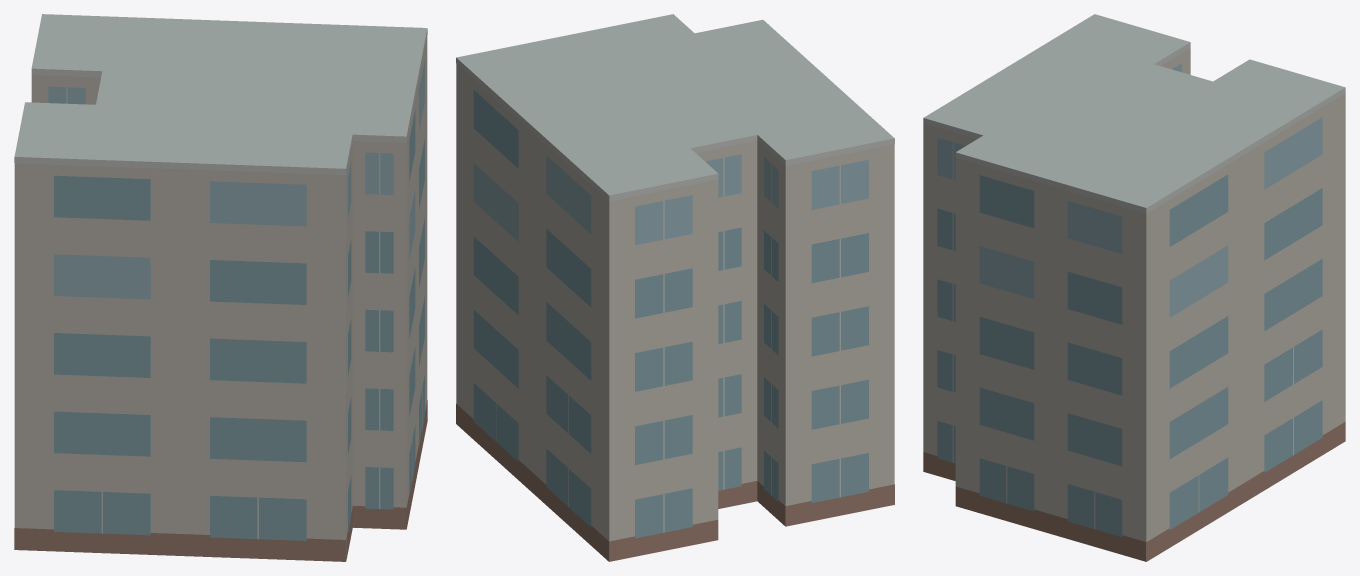
The model's file is survey-upis-32980012.glb.
The picture shows the model from 3 angles, left to right: view 1: azimuth 30°, elevation 25°; view 2: azimuth 150°, elevation 25°; view 3: azimuth 270°, elevation 25°; orthographic projection. The views are drawn at different scales.
Visible parts, largest first — view 1: survey-upis-32980012.tmp; view 2: survey-upis-32980012.tmp; view 3: survey-upis-32980012.tmp.
Boxes of the visible parts, x1=… form: survey-upis-32980012.tmp: x1=14, y1=14, x2=427, y2=561; survey-upis-32980012.tmp: x1=456, y1=14, x2=894, y2=561; survey-upis-32980012.tmp: x1=923, y1=14, x2=1345, y2=561.
Bounding box in the file's own units: 17.95 × 15.25 × 16.51.
